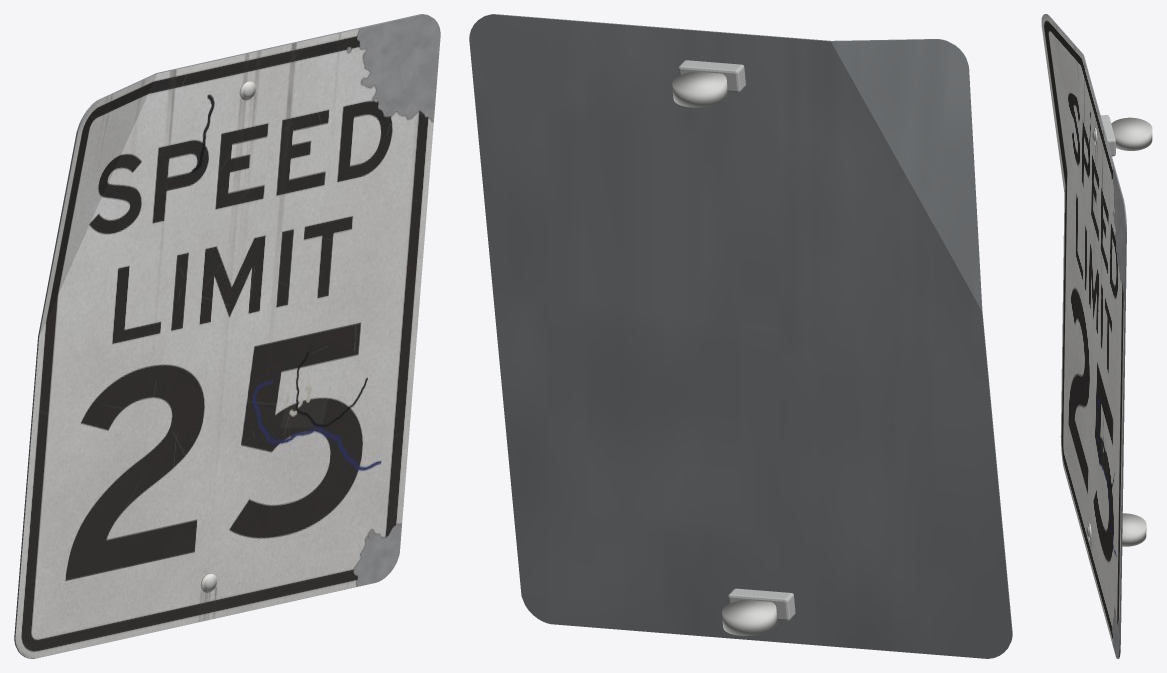
The model's file is speedLimit-v1-battered.glb.
3 views of the same model, side by side, from view 1: azimuth 30°, elevation 25°; view 2: azimuth 150°, elevation 25°; view 3: azimuth 270°, elevation 25° (orthographic). The views are drawn at different scales.
Visible parts, largest first — view 1: speedLimit-v1-battered; view 2: speedLimit-v1-battered; view 3: speedLimit-v1-battered.
Boxes of the visible parts, x1,y1,x2,y2 form: speedLimit-v1-battered: (14,14,440,658); speedLimit-v1-battered: (469,14,1012,658); speedLimit-v1-battered: (1041,14,1152,658).
Bounding box in the file's own units: 0.6652 × 0.807 × 0.16.
Materials: 1 (1 with a texture image).
